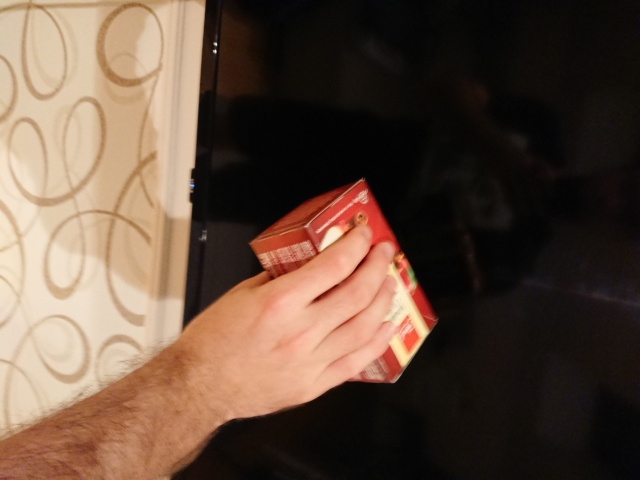Franck Apple Cinnamon Tea 60g: (245, 174, 441, 386)
